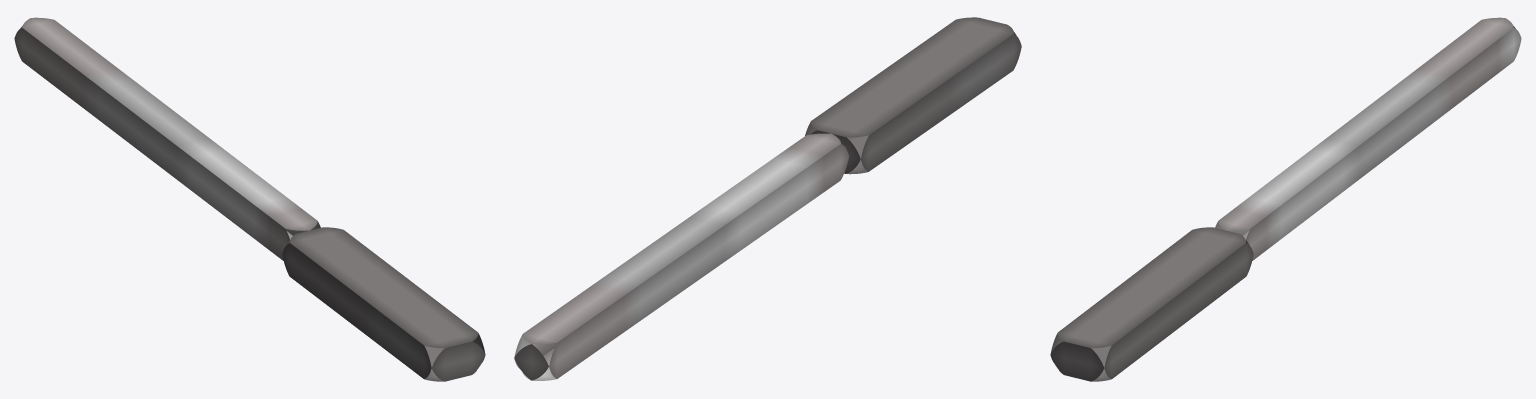
File: radius_rod_otherside.obj
3 views of the same model, side by side, from view 1: azimuth 30°, elevation 25°; view 2: azimuth 150°, elevation 25°; view 3: azimuth 330°, elevation 25° (orthographic). The views are drawn at different scales.
Parts seen in each view (by area): view 1: 半径杆; view 2: 半径杆; view 3: 半径杆.
Boxes of the visible parts, x1=… form: 半径杆: x1=14, y1=17, x2=485, y2=381; 半径杆: x1=514, y1=17, x2=1021, y2=380; 半径杆: x1=1050, y1=17, x2=1521, y2=381.
Size of the model in its own units: 0.125 by 0.105 by 1.72.
